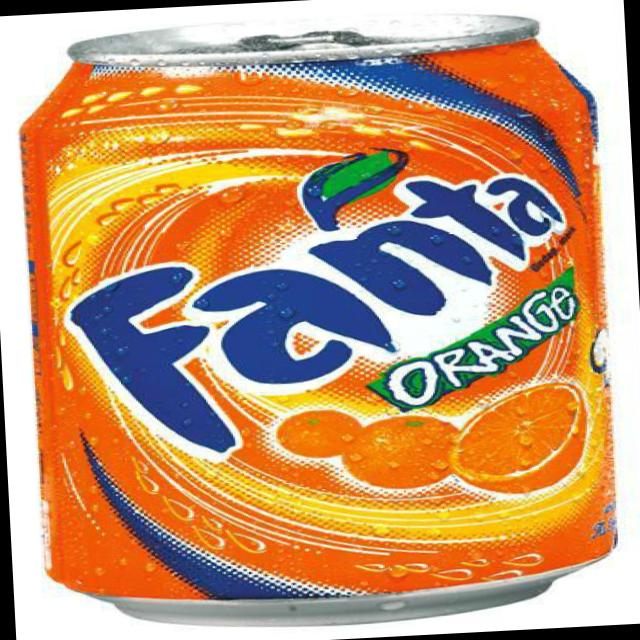fanta: (18, 11, 634, 639)
